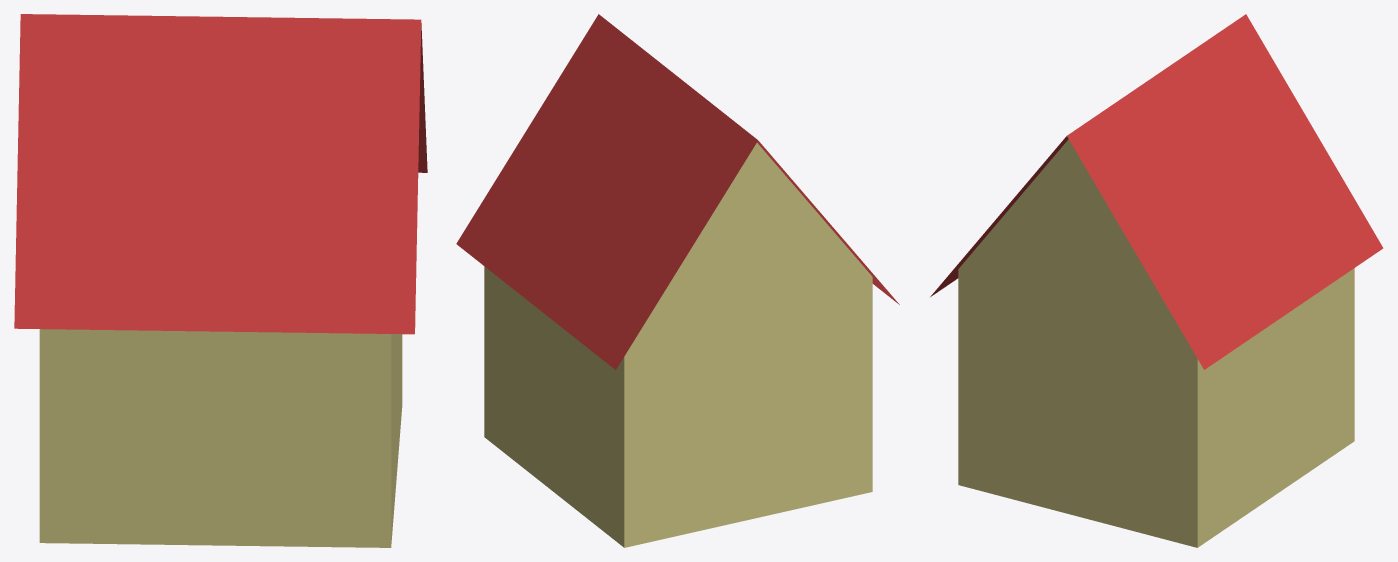
The picture shows the model from 3 angles, left to right: view 1: azimuth 30°, elevation 25°; view 2: azimuth 150°, elevation 25°; view 3: azimuth 270°, elevation 25°; orthographic projection. The views are drawn at different scales.
Visible parts, largest first — view 1: group_3, group_5, group_4; view 2: group_5, group_3, group_4; view 3: group_5, group_3, group_4.
Part boxes in pixels (left/top/right/bottom): group_3: left=14, top=14, right=427, bottom=334; group_5: left=39, top=329, right=402, bottom=547; group_4: left=14, top=14, right=426, bottom=334; group_5: left=484, top=143, right=872, bottom=547; group_3: left=457, top=14, right=899, bottom=369; group_4: left=456, top=16, right=597, bottom=342; group_5: left=958, top=139, right=1354, bottom=547; group_3: left=931, top=14, right=1383, bottom=369; group_4: left=930, top=138, right=1287, bottom=369.
Size of the model in its own units: 16.49 by 16.3 by 15.38.
